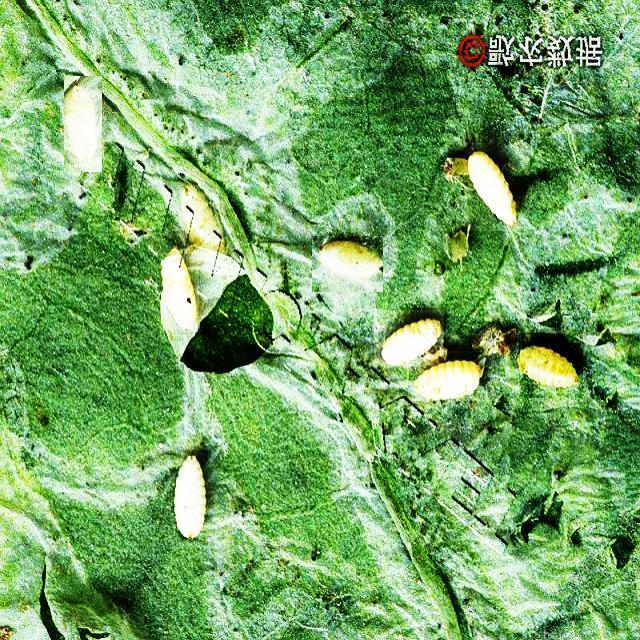whorl-maggot: (464, 143, 530, 231), (164, 444, 218, 549), (519, 333, 583, 398), (415, 351, 498, 401), (312, 236, 383, 292), (374, 310, 444, 366), (64, 76, 102, 172), (162, 249, 199, 330)
